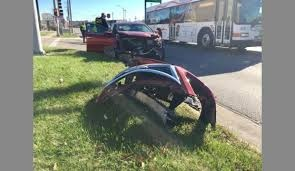Smashed: (116, 32, 164, 59)
